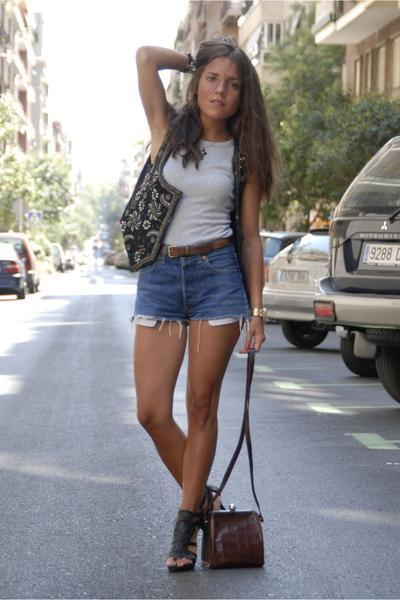bag: (202, 352, 263, 571)
jacket: (117, 139, 247, 271)
shirt: (163, 140, 233, 251)
shoe: (170, 503, 212, 572)
shorts: (135, 260, 252, 323)
